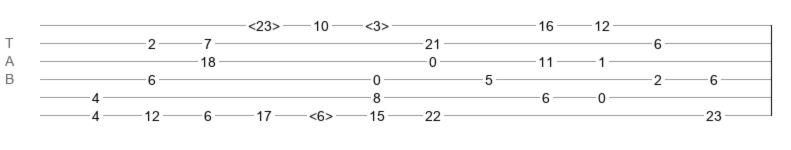0: (373, 72, 381, 82), (429, 54, 437, 64), (598, 90, 606, 100)
1: (598, 54, 606, 64)
10: (313, 18, 329, 28)
11: (538, 54, 554, 64)
12: (144, 108, 160, 118), (594, 18, 610, 28)
15: (369, 108, 385, 118)
16: (538, 18, 554, 28)
17: (256, 108, 272, 118)
18: (200, 54, 216, 64)
2: (148, 36, 156, 46), (654, 72, 662, 82)
21: (425, 36, 441, 46)
22: (425, 108, 441, 118)
23: (706, 108, 722, 118)
4: (92, 108, 100, 118), (92, 90, 100, 100)
5: (485, 72, 493, 82)
6: (148, 72, 156, 82), (204, 108, 212, 118), (542, 90, 550, 100), (654, 36, 662, 46), (710, 72, 718, 82)
7: (204, 36, 212, 46)
8: (373, 90, 381, 100)
harmonic: (248, 18, 280, 28), (309, 108, 333, 118), (365, 18, 389, 28)
